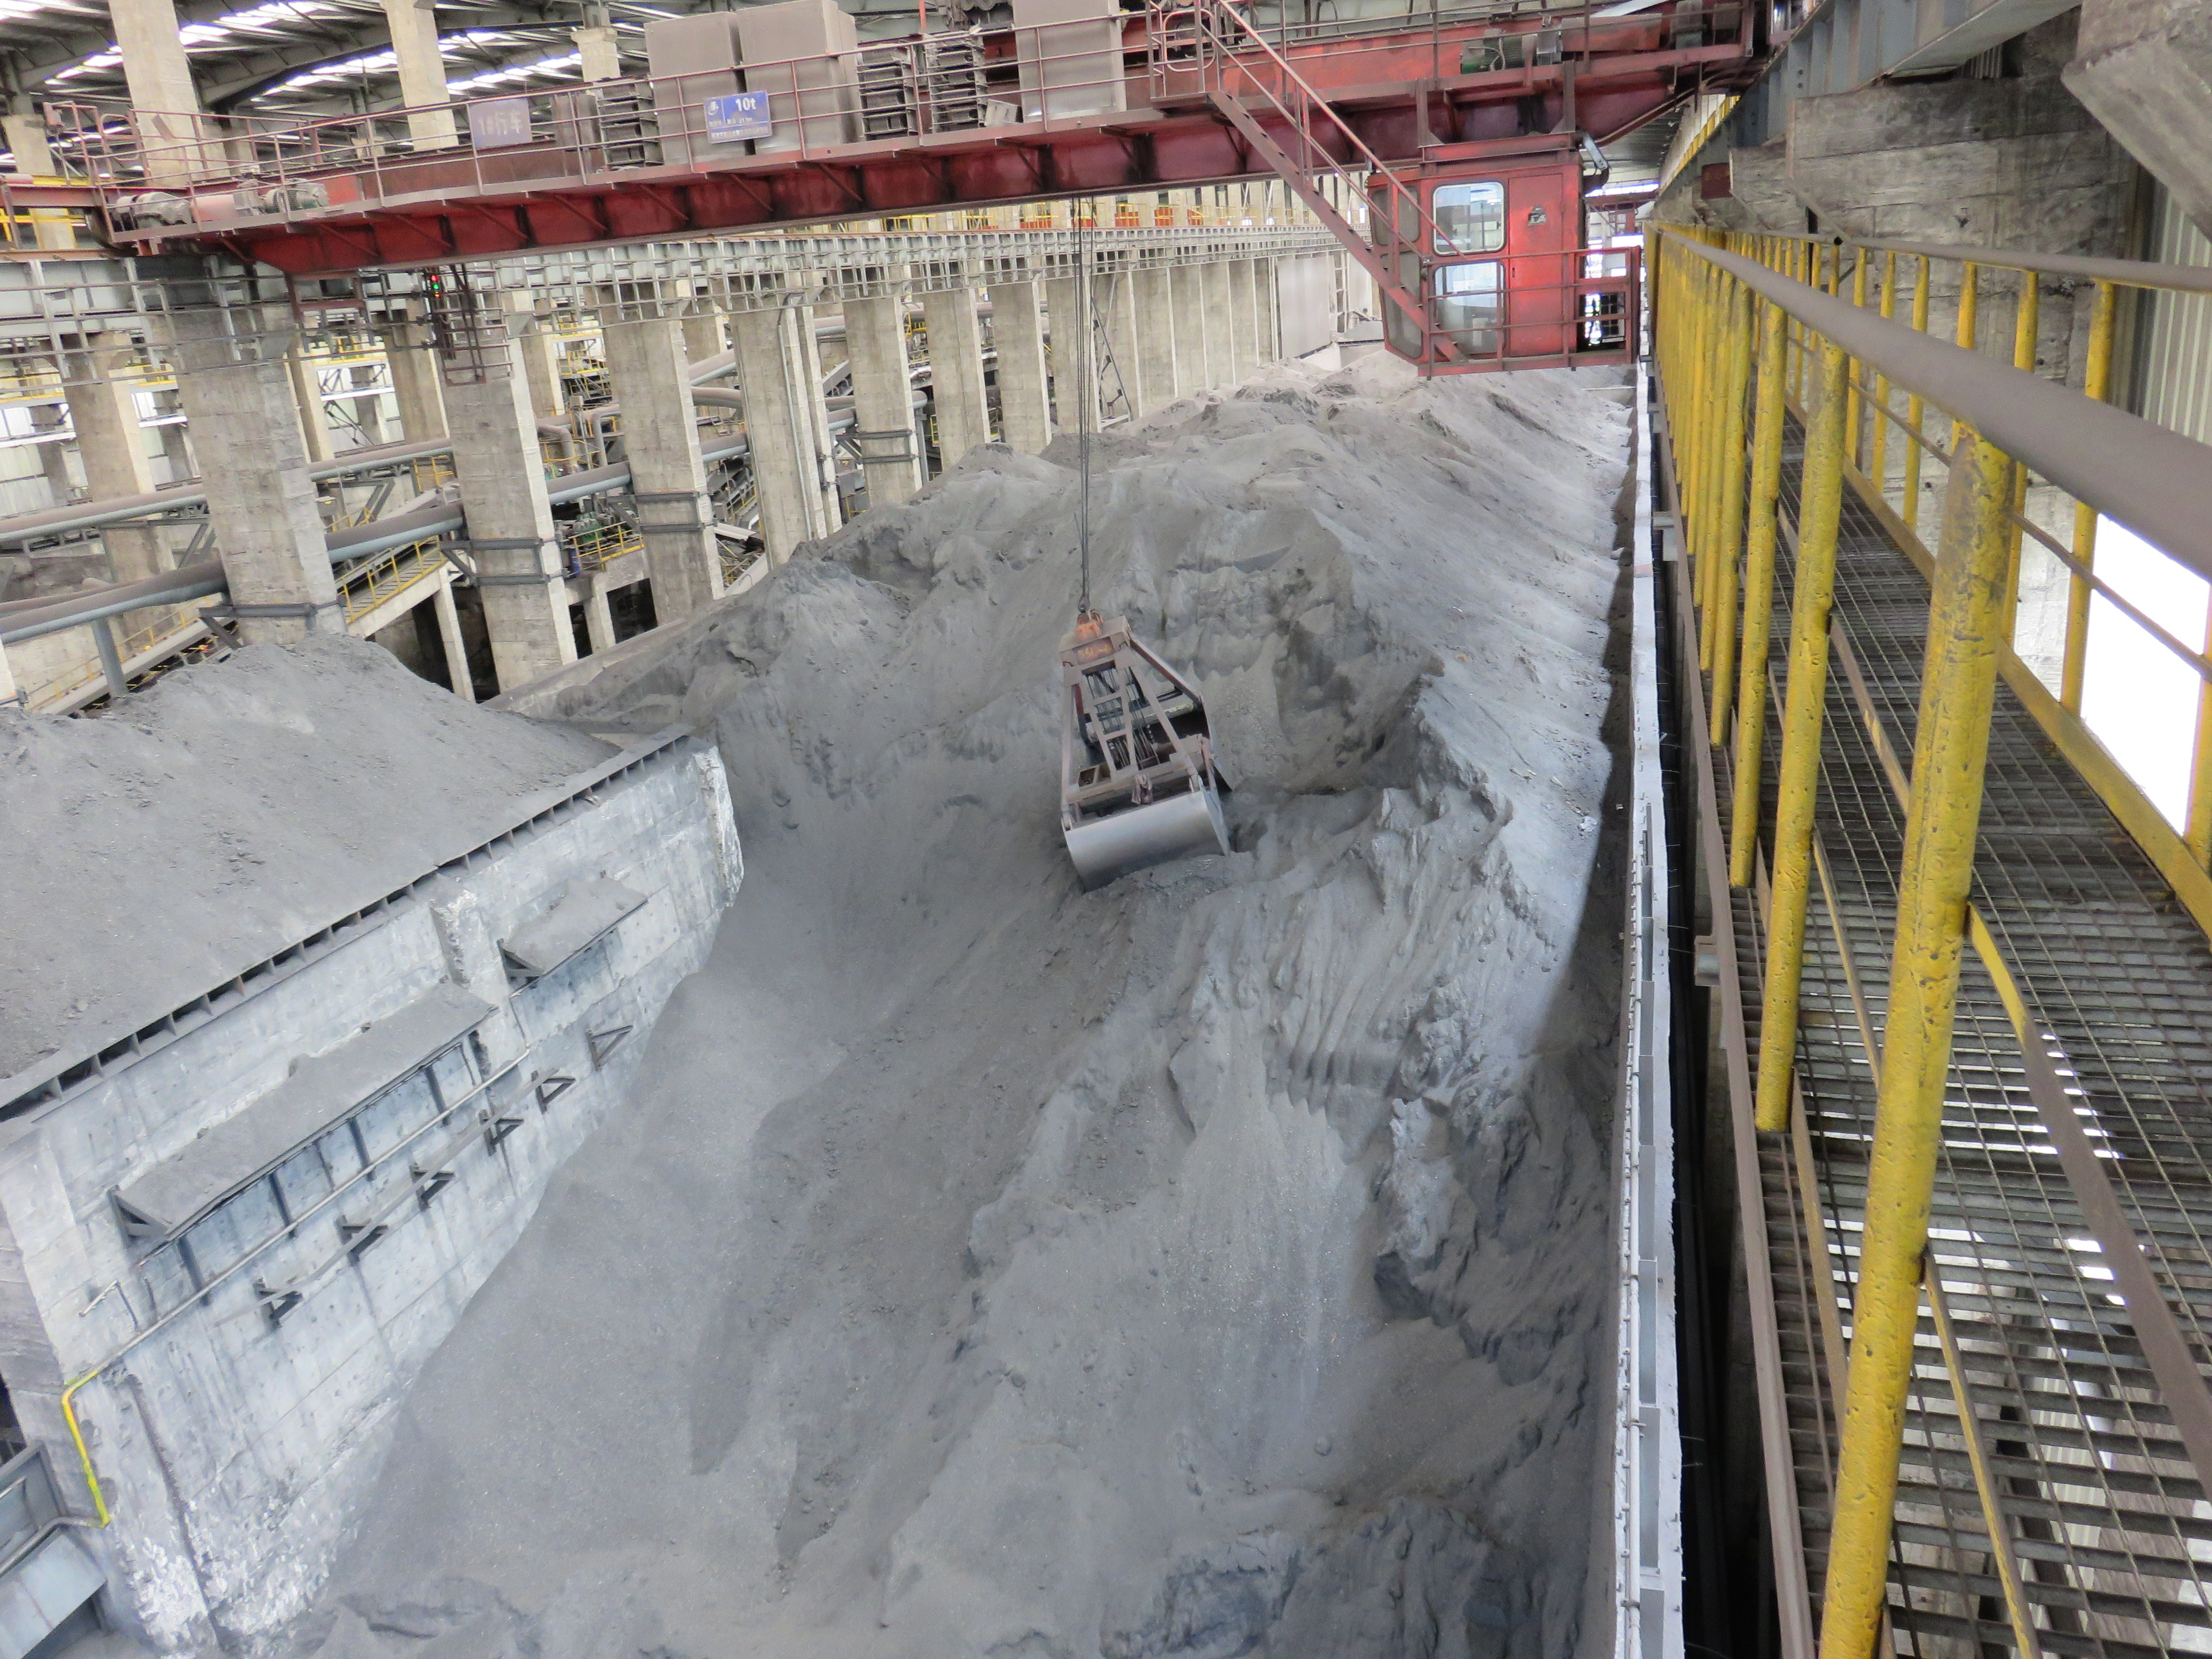grab: (1042, 596, 1258, 880)
